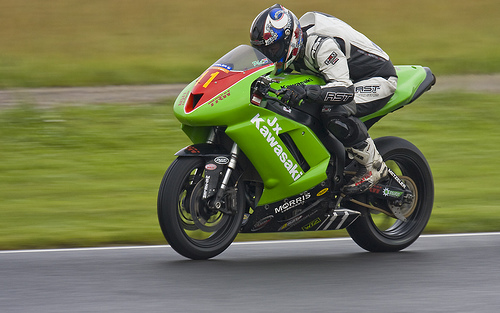helmet: (240, 4, 302, 69)
